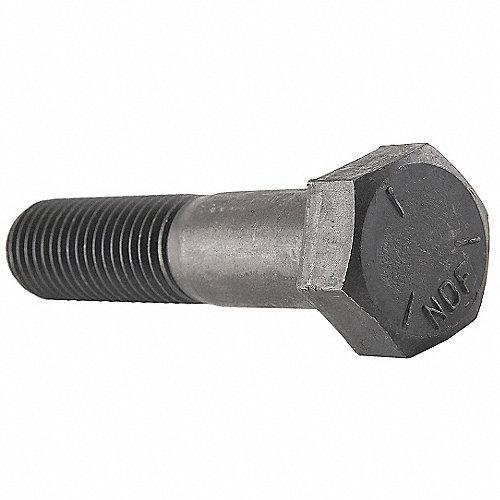Tornillo: (3, 141, 496, 363)
